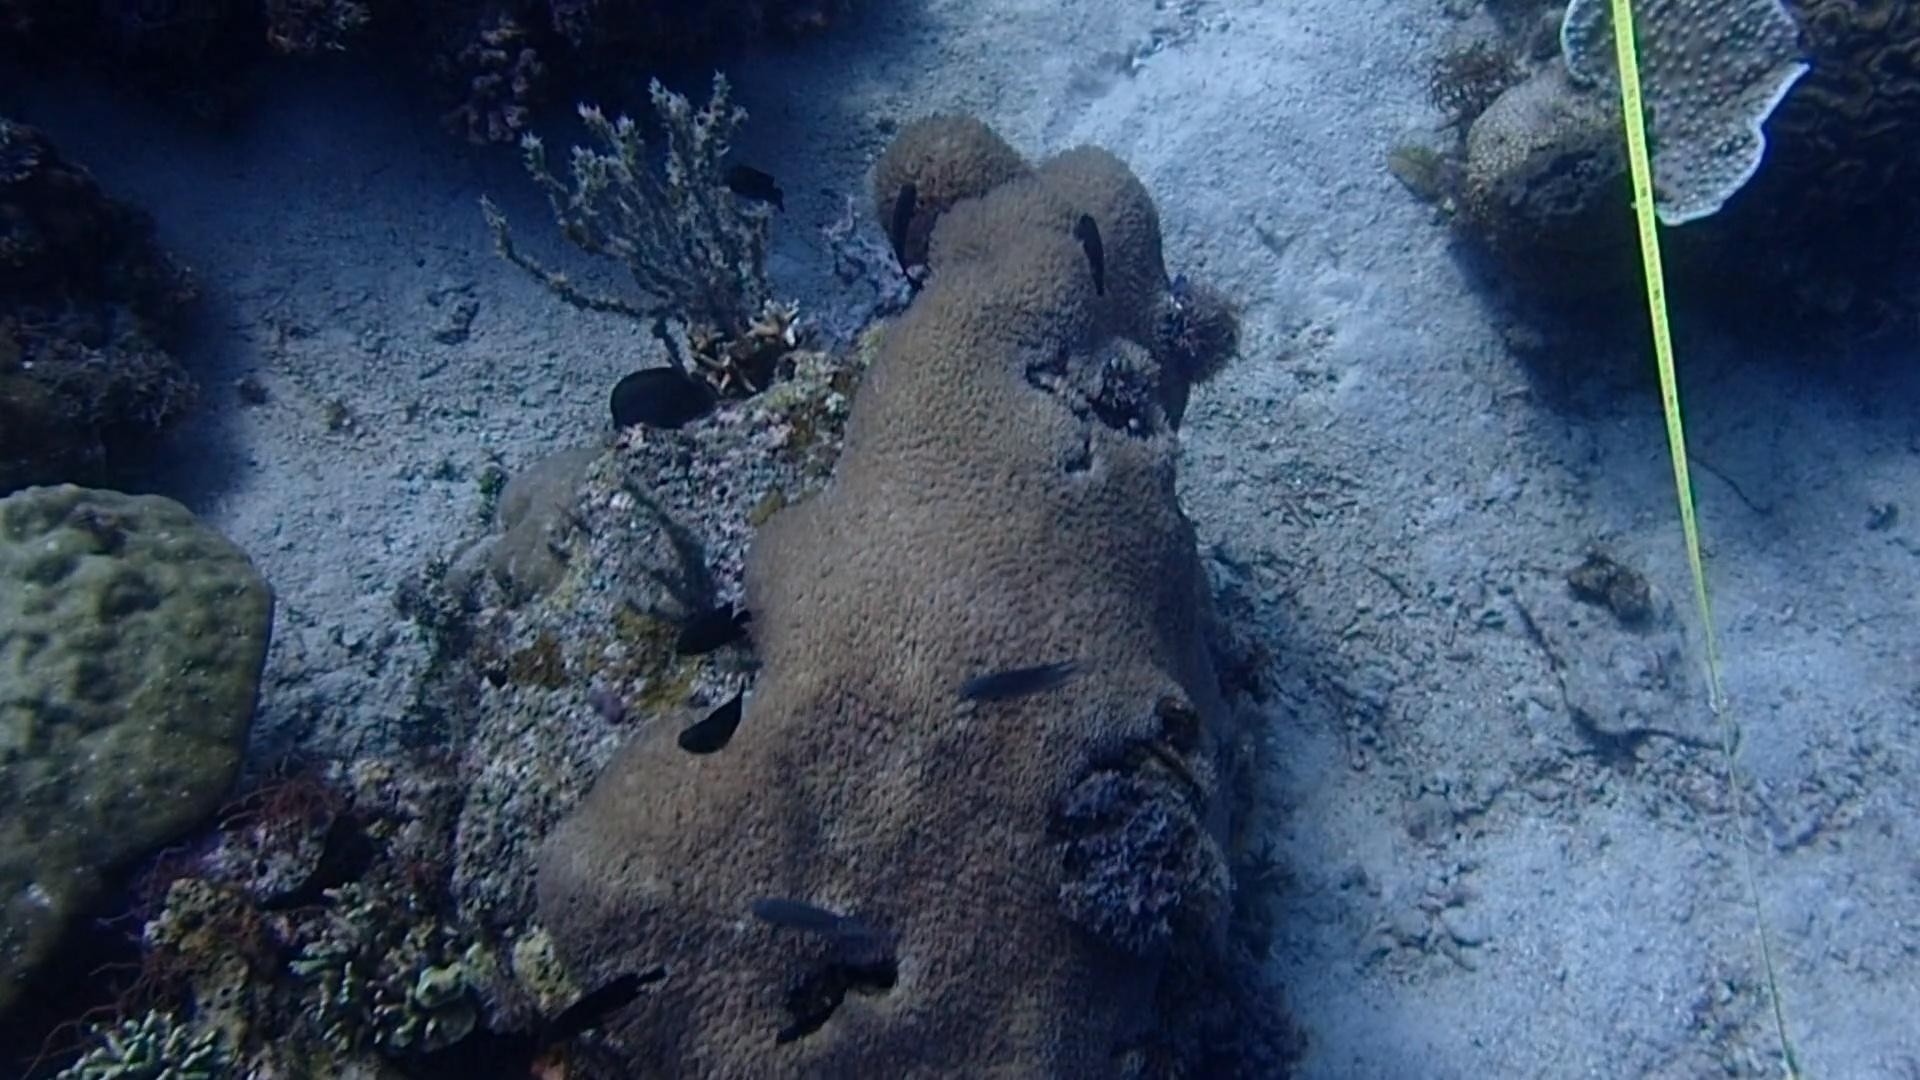Dark Fish: (550, 956, 669, 1031), (658, 692, 770, 767), (657, 597, 773, 667), (1069, 198, 1124, 294), (709, 149, 782, 218), (887, 177, 928, 269)
Light Fish: (745, 880, 866, 959), (956, 650, 1077, 712)
